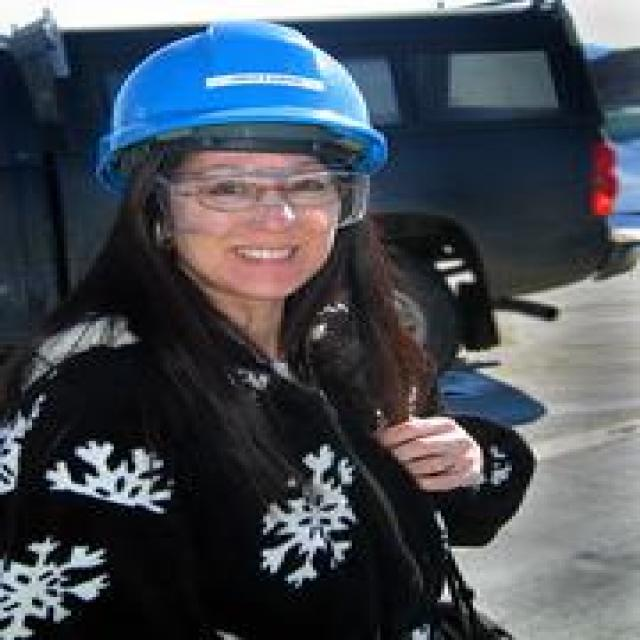Safety-Helmet: (96, 16, 391, 170)
